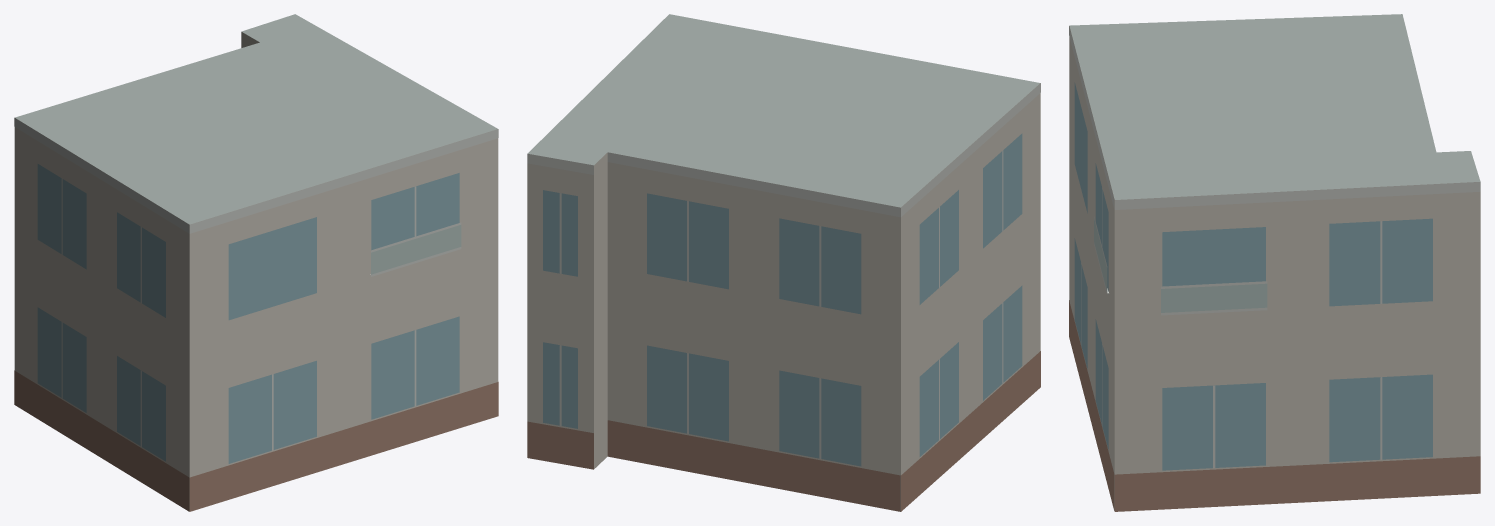
File: survey-upis-32665695.glb
3 renders of one model, left to right at view 1: azimuth 30°, elevation 25°; view 2: azimuth 150°, elevation 25°; view 3: azimuth 270°, elevation 25°, orthographic. The views are drawn at different scales.
Visible parts, largest first — view 1: survey-upis-32665695.tmp; view 2: survey-upis-32665695.tmp; view 3: survey-upis-32665695.tmp.
Part boxes in pixels (bbox=[...]): survey-upis-32665695.tmp: bbox=[14, 14, 498, 511]; survey-upis-32665695.tmp: bbox=[527, 14, 1040, 511]; survey-upis-32665695.tmp: bbox=[1069, 14, 1480, 511].
Bounding box in the file's own units: 9.74 × 7.6 × 9.1.
